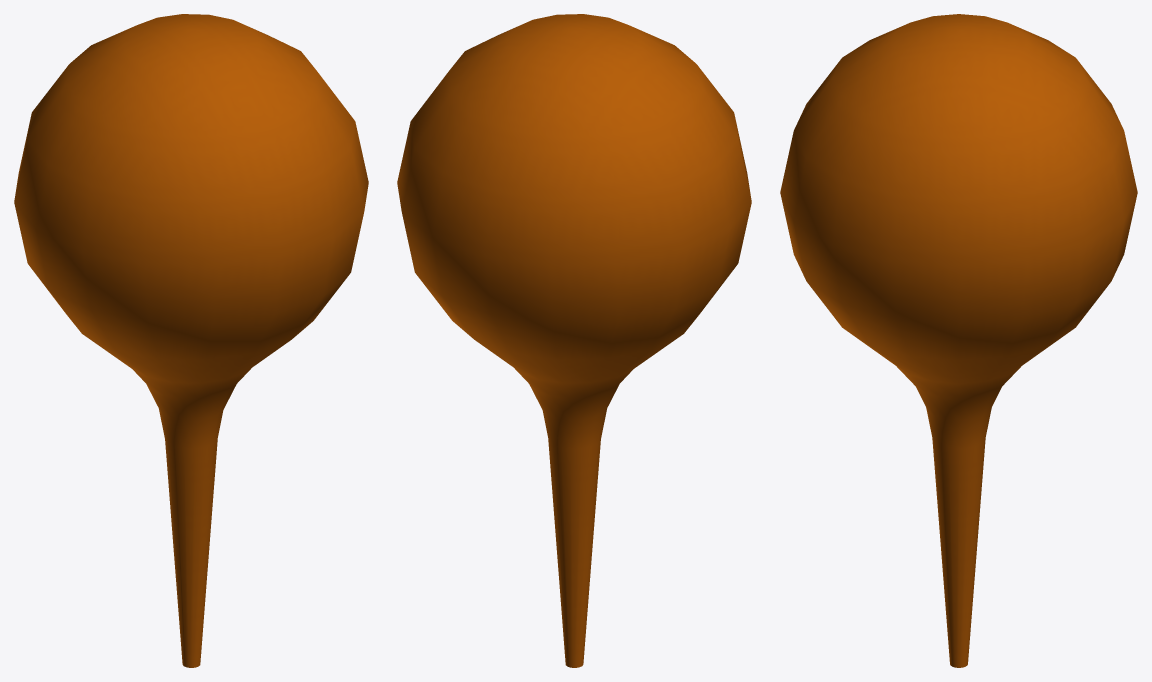
Rendered from SM_洗耳球.fbx.
3 renders of one model, left to right at view 1: azimuth 30°, elevation 25°; view 2: azimuth 150°, elevation 25°; view 3: azimuth 270°, elevation 25°, orthographic.
Parts seen in each view (by area): view 1: SM_洗耳球; view 2: SM_洗耳球; view 3: SM_洗耳球.
Boxes of the visible parts, left/top/right/bottom form: SM_洗耳球: left=14, top=14, right=368, bottom=667; SM_洗耳球: left=397, top=14, right=751, bottom=667; SM_洗耳球: left=780, top=14, right=1137, bottom=667.
Size of the model in its own units: 0.0532 by 0.104 by 0.0532.
